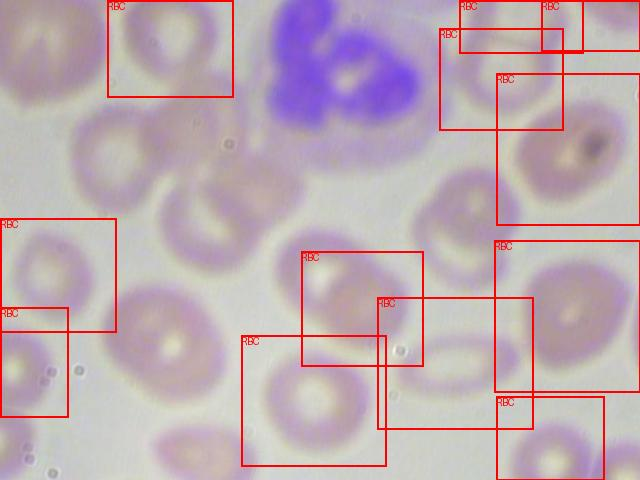RBC: (494, 240, 640, 392), (496, 73, 640, 225), (377, 297, 533, 429), (241, 335, 386, 466), (301, 251, 423, 366), (0, 218, 116, 332), (439, 28, 563, 130), (107, 0, 233, 97), (496, 396, 604, 480), (0, 307, 68, 417), (459, 0, 583, 53), (541, 0, 640, 51)
